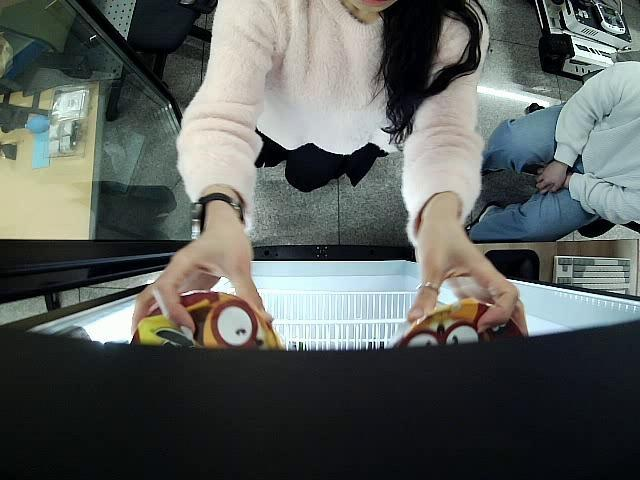05_nuguri_L: (126, 289, 282, 355), (387, 298, 531, 351)
